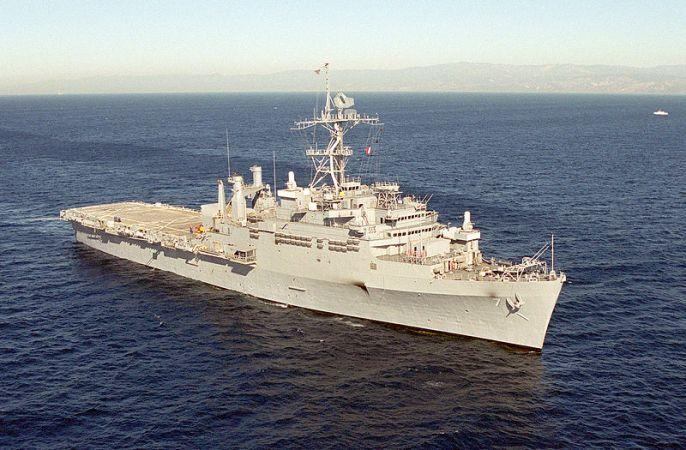warship: (59, 70, 585, 358)
